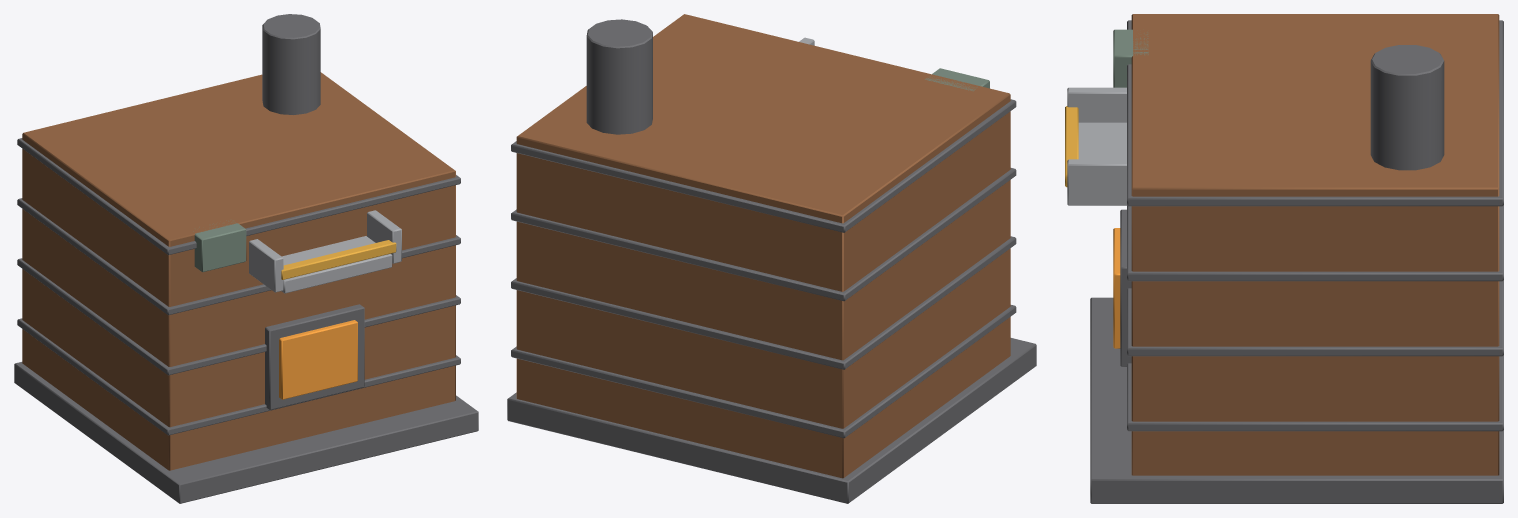
The model's file is feRetortKiln.fbx.
3 renders of one model, left to right at view 1: azimuth 30°, elevation 25°; view 2: azimuth 150°, elevation 25°; view 3: azimuth 270°, elevation 25°, orthographic. The views are drawn at different scales.
Parts seen in each view (by area): view 1: feRetortKiln_Base; view 2: feRetortKiln_Base; view 3: feRetortKiln_Base.
Part boxes in pixels (x1,y1,x2,y2): feRetortKiln_Base: [14, 14, 478, 503]; feRetortKiln_Base: [507, 14, 1036, 503]; feRetortKiln_Base: [1065, 14, 1503, 503].
Bounding box in the file's own units: 0.94 × 0.98 × 0.955.
